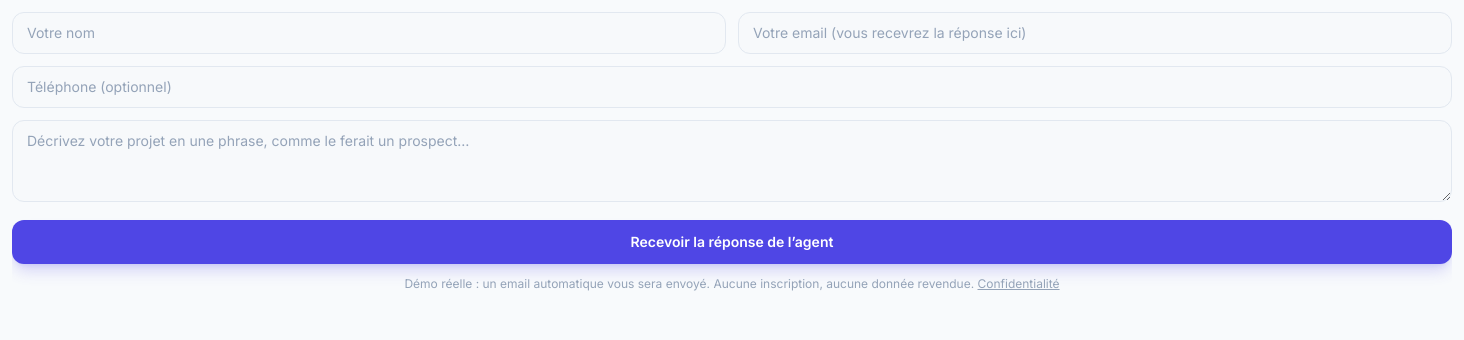
Test: DemoForm › affiche le message rate-limit sur 429
Step 1. Type "Jean" into the field with placeholder "Votre nom" → (369, 33), box [12, 12, 726, 54]
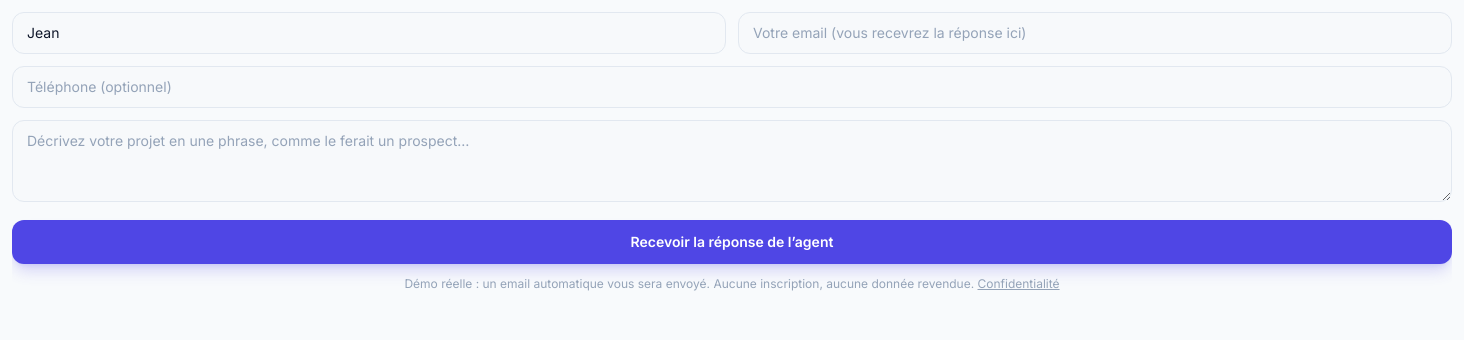
Step 2. Type "jean@test.fr" into the field with placeholder "Votre email (vous recevrez la réponse ici)" → (1095, 33), box [738, 12, 1452, 54]
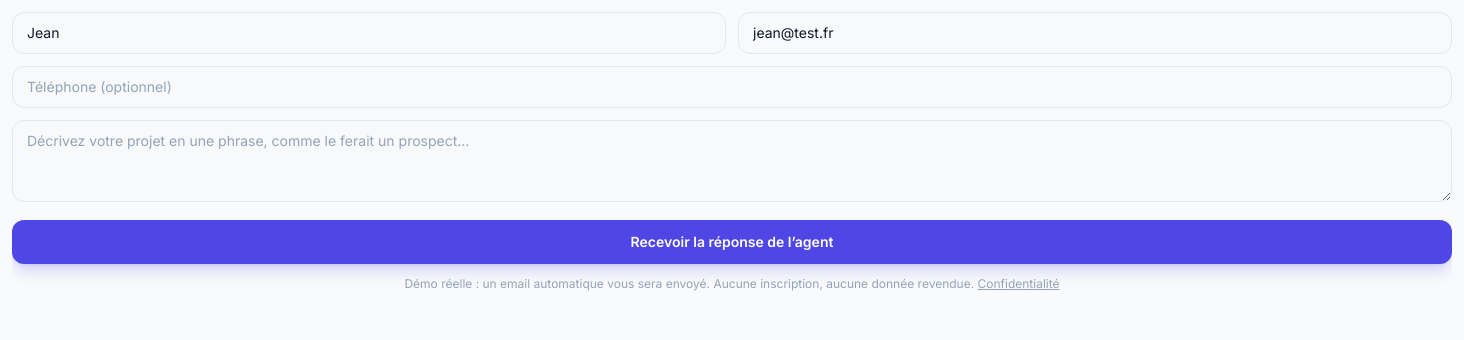
Step 3. Replace the text in the text box with placeholder "Décrivez votre projet" with "PAC pour maison 120m2" → (732, 161), box [12, 120, 1452, 202]
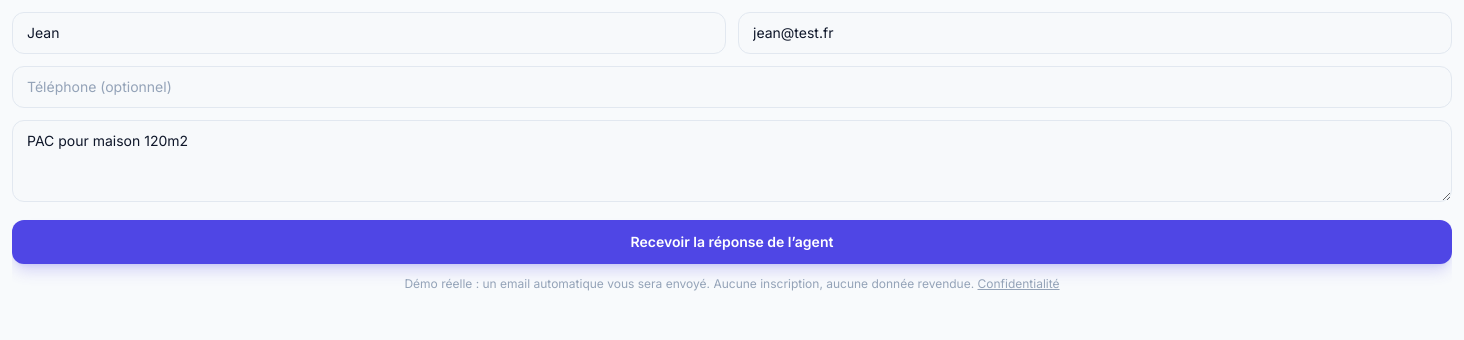
Step 4. Click the button → (732, 242), box [12, 220, 1452, 264]
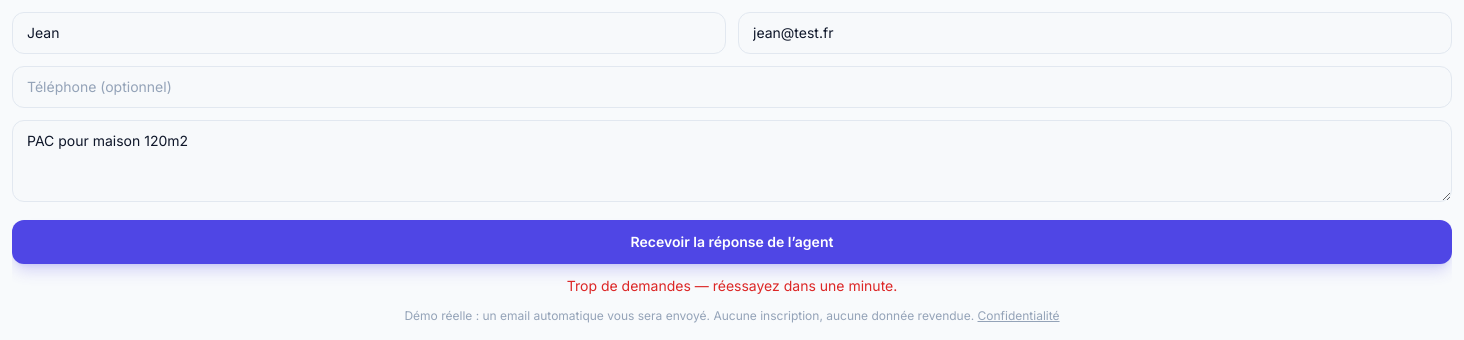
Check: the text "Trop de demandes — réessayez dans une minute." is shown, box [567, 277, 897, 294]
